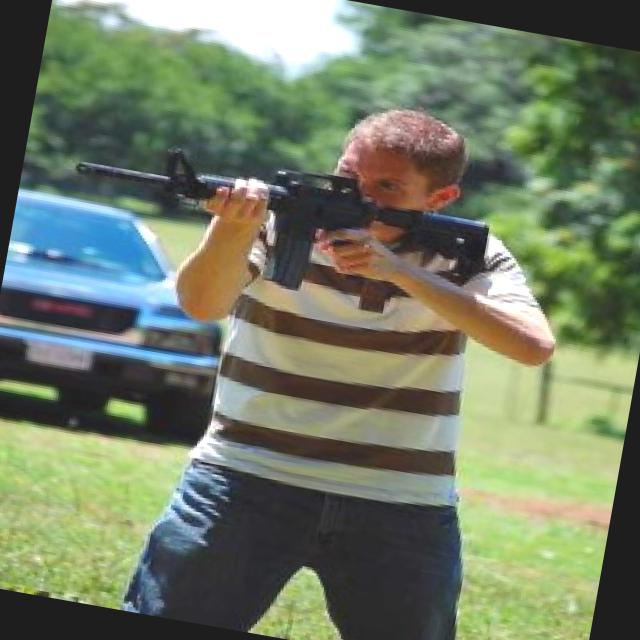long weapon: (34, 129, 496, 310)
